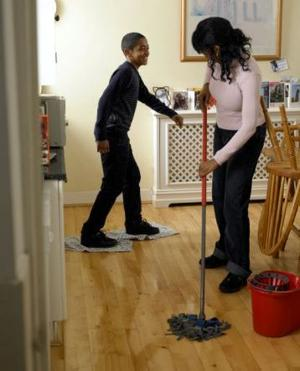person: (192, 16, 266, 296)
